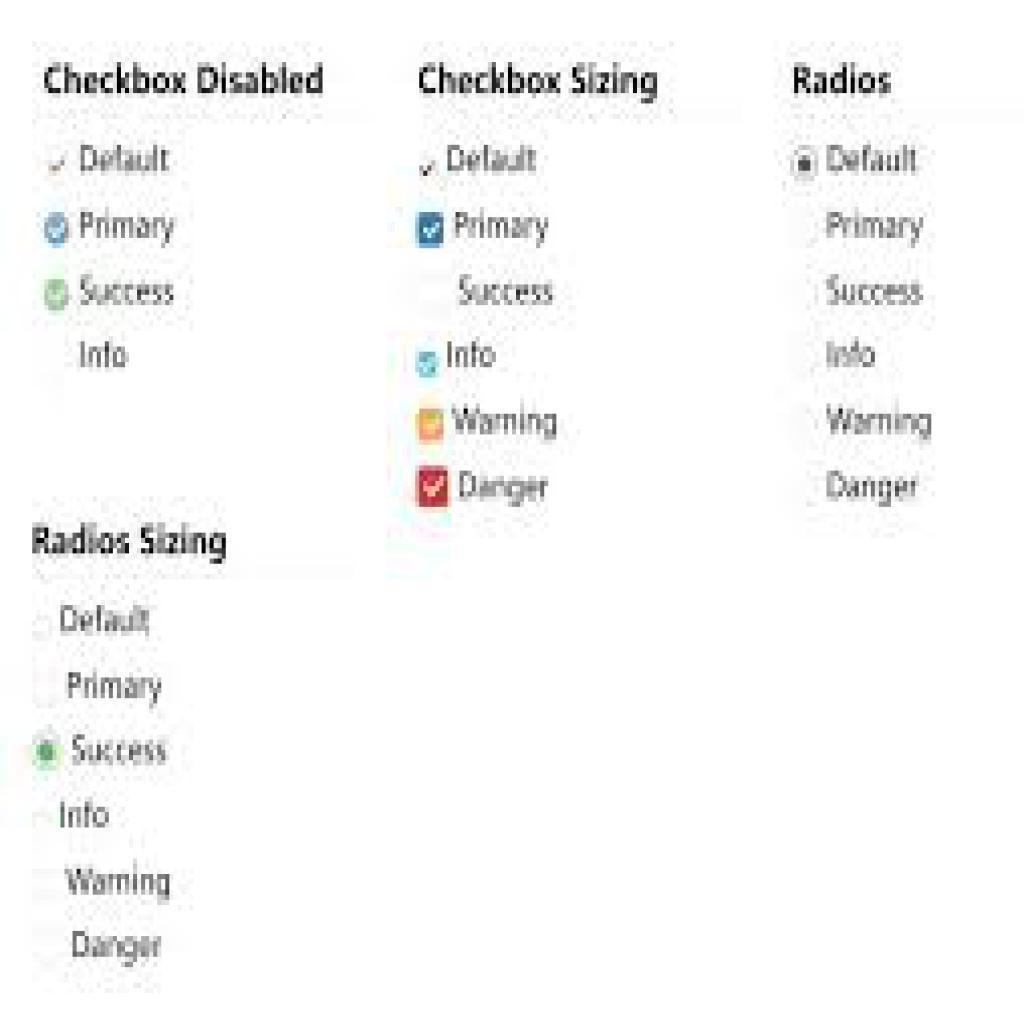checkbox: (414, 209, 446, 250), (419, 468, 451, 507), (416, 406, 447, 443), (42, 213, 72, 248), (44, 279, 72, 312), (43, 148, 74, 175), (414, 153, 441, 184), (416, 350, 439, 379)
label: (37, 57, 331, 103), (414, 57, 662, 108), (30, 520, 231, 568), (824, 397, 935, 446), (64, 863, 174, 909), (823, 267, 930, 312), (450, 464, 553, 510), (451, 401, 559, 444), (789, 59, 905, 99), (821, 137, 927, 180), (450, 206, 553, 249), (821, 464, 921, 508), (823, 207, 929, 247), (70, 926, 166, 968), (59, 599, 157, 640), (79, 270, 179, 310), (77, 207, 179, 246), (457, 271, 558, 310), (73, 730, 169, 771), (443, 139, 541, 178), (67, 670, 164, 707), (77, 141, 173, 176), (444, 336, 502, 372), (821, 336, 880, 371), (77, 333, 128, 372), (57, 796, 111, 829)
radio: (25, 724, 64, 775), (790, 146, 820, 182)
